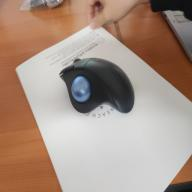mouse: (60, 57, 136, 115)
